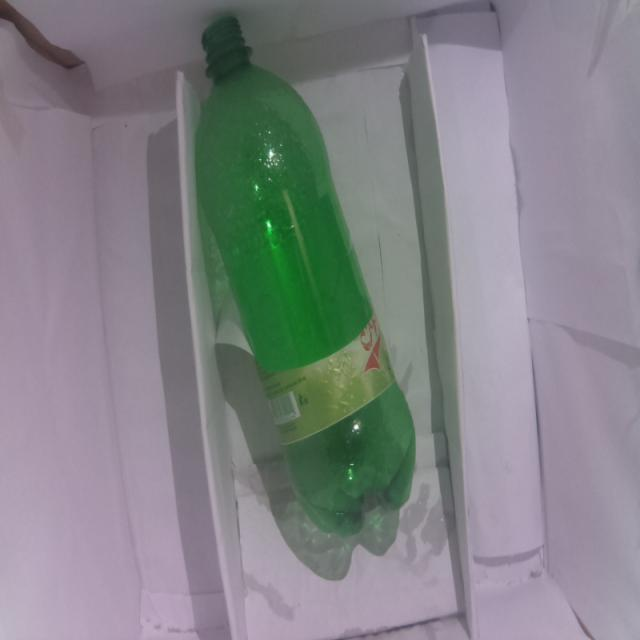bottle: (181, 8, 423, 528)
label: (256, 316, 394, 435)
